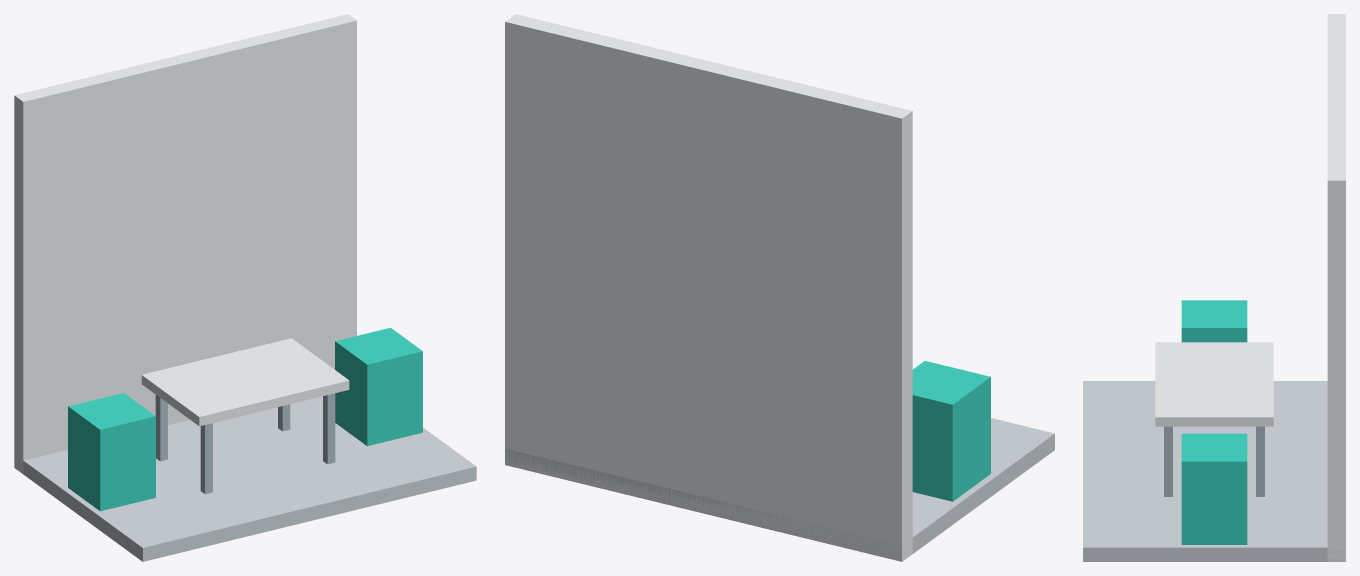
The picture shows the model from 3 angles, left to right: view 1: azimuth 30°, elevation 25°; view 2: azimuth 150°, elevation 25°; view 3: azimuth 270°, elevation 25°; orthographic projection. The views are drawn at different scales.
Visible parts, largest first — view 1: Exhibition Booth Concept; view 2: Exhibition Booth Concept; view 3: Exhibition Booth Concept.
Boxes of the visible parts, left/top/right/bottom form: Exhibition Booth Concept: left=14, top=14, right=476, bottom=561; Exhibition Booth Concept: left=505, top=14, right=1054, bottom=561; Exhibition Booth Concept: left=1083, top=14, right=1345, bottom=561.
Size of the model in its own units: 3 by 3.2 by 2.
